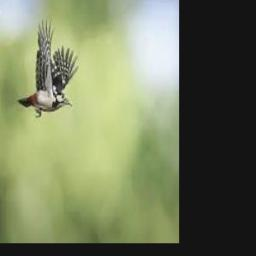Woodpecker: (18, 16, 79, 118)
